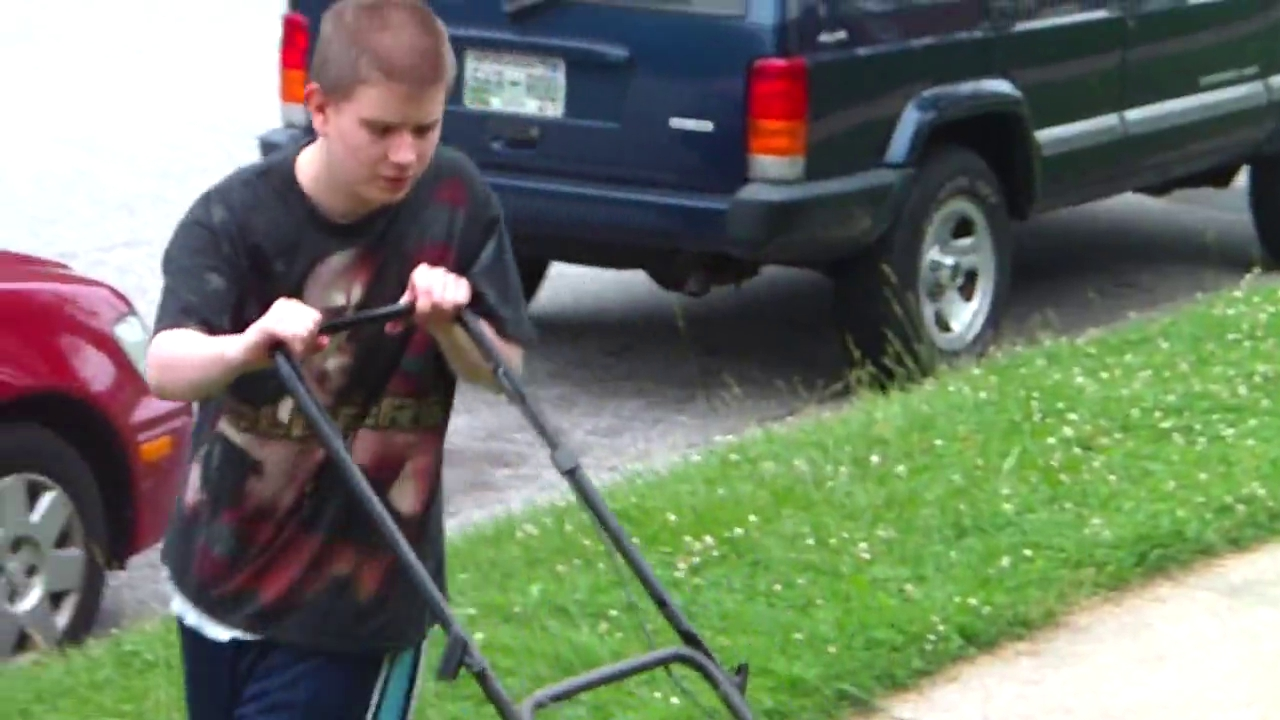person: (144, 1, 537, 719)
